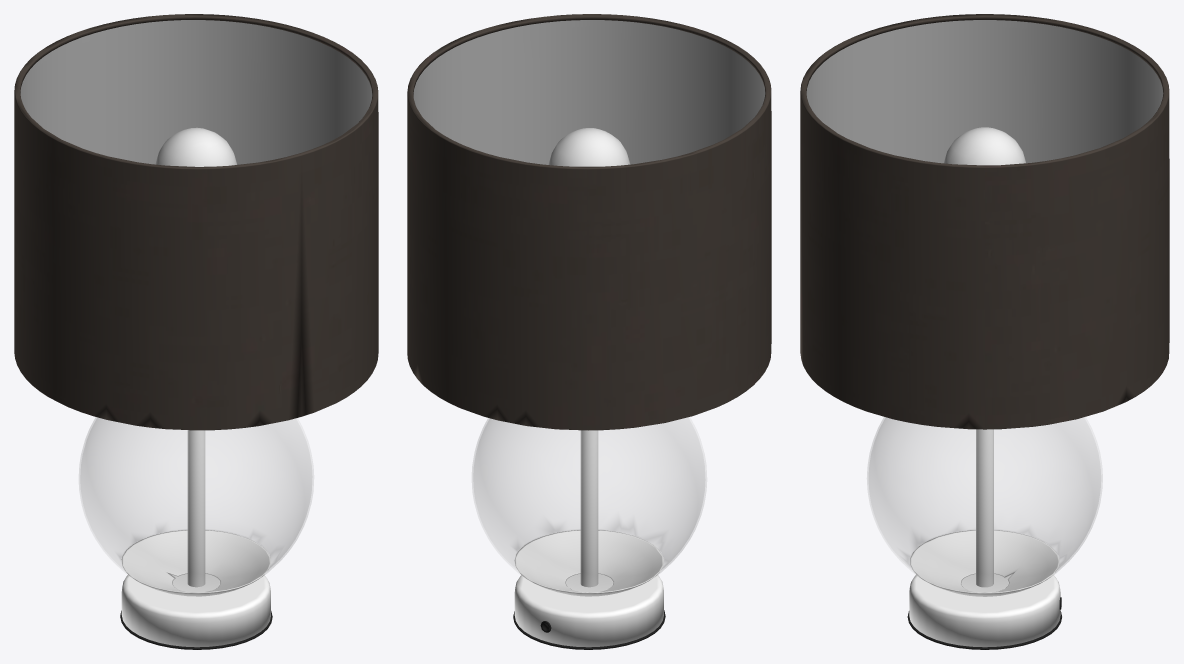
File: lamp_drum.glb
The picture shows the model from 3 angles, left to right: view 1: azimuth 30°, elevation 25°; view 2: azimuth 150°, elevation 25°; view 3: azimuth 270°, elevation 25°; orthographic projection.
Parts seen in each view (by area): view 1: lamp, lamp_iridescence, lamp_transmission; view 2: lamp, lamp_iridescence, lamp_transmission; view 3: lamp, lamp_iridescence, lamp_transmission.
Part boxes in pixels (left/top/right/bottom): lamp: left=14, top=14, right=378, bottom=649; lamp_iridescence: left=20, top=20, right=372, bottom=164; lamp_transmission: left=79, top=417, right=313, bottom=592; lamp: left=407, top=14, right=771, bottom=649; lamp_iridescence: left=413, top=20, right=765, bottom=164; lamp_transmission: left=472, top=417, right=706, bottom=592; lamp: left=800, top=14, right=1169, bottom=649; lamp_iridescence: left=806, top=20, right=1163, bottom=163; lamp_transmission: left=867, top=417, right=1102, bottom=592.
Size of the model in its own units: 0.2971 by 0.4761 by 0.3018.
Materials: 3 (3 with a texture image).
